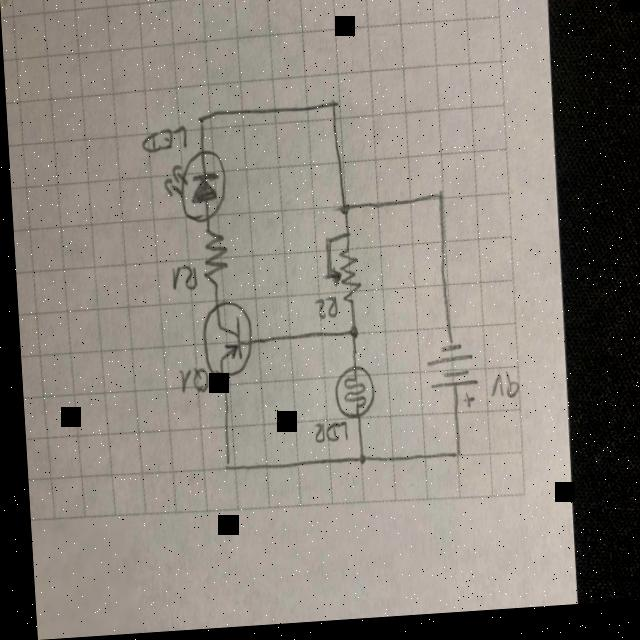diode: (158, 152, 227, 227)
junction: (431, 194, 446, 212), (444, 449, 459, 466), (335, 205, 350, 222), (217, 460, 232, 477), (192, 115, 207, 132), (348, 454, 363, 470), (343, 328, 357, 345), (324, 104, 338, 120)
resistor: (328, 369, 373, 426), (327, 254, 359, 312), (197, 232, 227, 293)
source: (419, 346, 476, 417)
text: (139, 129, 187, 157), (174, 368, 205, 399), (484, 378, 516, 407), (308, 424, 343, 450), (168, 266, 195, 295), (310, 301, 335, 325)
transistor: (196, 303, 251, 385)
